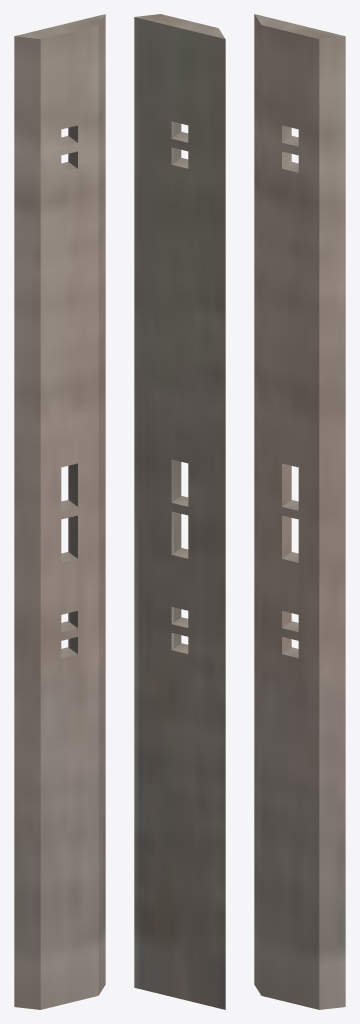
File: original-31.obj
The picture shows the model from 3 angles, left to right: view 1: azimuth 30°, elevation 25°; view 2: azimuth 150°, elevation 25°; view 3: azimuth 330°, elevation 25°; orthographic projection.
Visible parts, largest first — view 1: Leg_pt2/Leg_pt12/mesh31/mesh31-geometry#mesh31-geometry; view 2: Leg_pt2/Leg_pt12/mesh31/mesh31-geometry#mesh31-geometry; view 3: Leg_pt2/Leg_pt12/mesh31/mesh31-geometry#mesh31-geometry.
Part boxes in pixels (bbox=[...]): Leg_pt2/Leg_pt12/mesh31/mesh31-geometry#mesh31-geometry: bbox=[14, 14, 105, 1009]; Leg_pt2/Leg_pt12/mesh31/mesh31-geometry#mesh31-geometry: bbox=[134, 14, 225, 1009]; Leg_pt2/Leg_pt12/mesh31/mesh31-geometry#mesh31-geometry: bbox=[254, 14, 345, 1009].
Size of the model in its own units: 0.1 by 1.02 by 0.0182.
